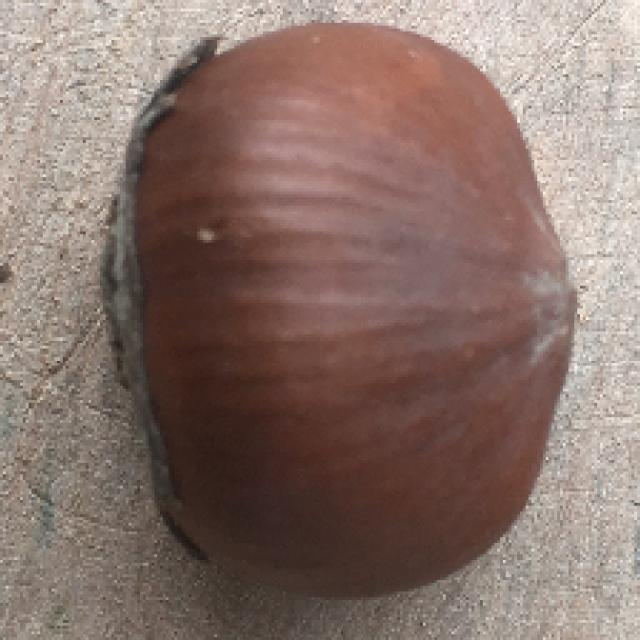damagedHazelnut: (101, 15, 576, 595)
